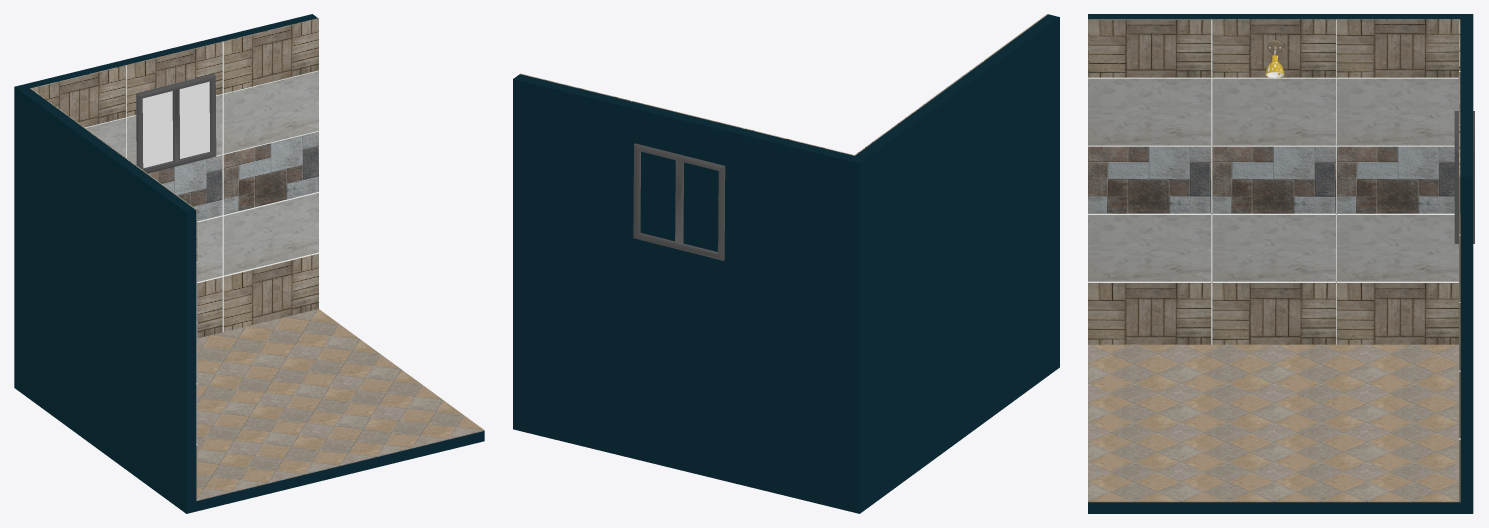
The model's file is asset.glb.
The picture shows the model from 3 angles, left to right: view 1: azimuth 30°, elevation 25°; view 2: azimuth 150°, elevation 25°; view 3: azimuth 270°, elevation 25°; orthographic projection. The views are drawn at different scales.
Visible parts, largest first — view 1: Window, Left Wall, Floor; view 2: Window, Left Wall; view 3: Left Wall, Floor, Window.
Part boxes in pixels (x1=…): Window: x1=14, y1=14, x2=484, y2=513; Left Wall: x1=30, y1=18, x2=318, y2=500; Floor: x1=196, y1=309, x2=484, y2=500; Window: x1=513, y1=14, x2=1059, y2=513; Left Wall: x1=520, y1=14, x2=1047, y2=155; Left Wall: x1=1088, y1=19, x2=1460, y2=502; Floor: x1=1088, y1=344, x2=1459, y2=502; Window: x1=1088, y1=14, x2=1474, y2=513.
Bounding box in the file's own units: 8 × 7.73 × 8.04.
Materials: 9 (9 with a texture image).
